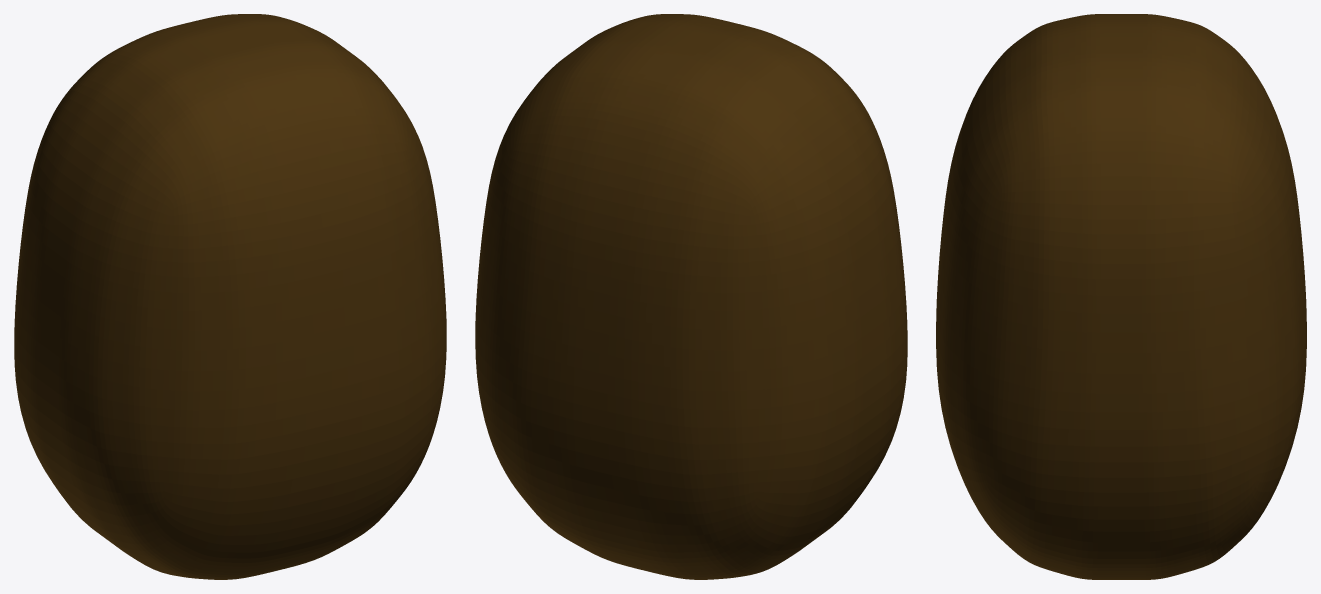
File: Kiwi.fbx
3 views of the same model, side by side, from view 1: azimuth 30°, elevation 25°; view 2: azimuth 150°, elevation 25°; view 3: azimuth 270°, elevation 25° (orthographic).
Visible parts, largest first — view 1: Cube; view 2: Cube; view 3: Cube.
Part boxes in pixels (x1=…): Cube: x1=14, y1=14, x2=446, y2=579; Cube: x1=475, y1=14, x2=907, y2=579; Cube: x1=936, y1=14, x2=1306, y2=579.
Size of the model in its own units: 6.01 by 8.06 by 5.29.
